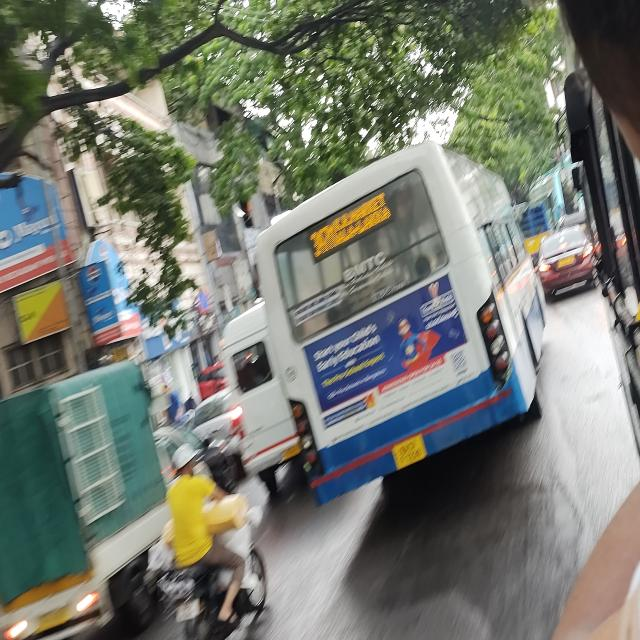bus: (237, 151, 553, 479)
display: (308, 192, 389, 258)
